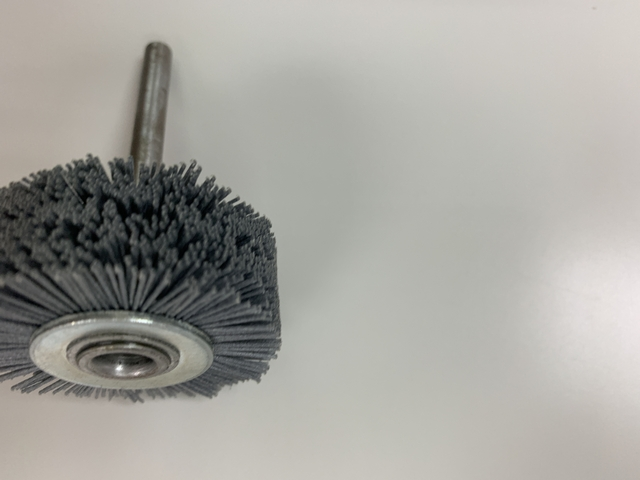Wheel Brush: (1, 38, 278, 418), (1, 57, 287, 402)
